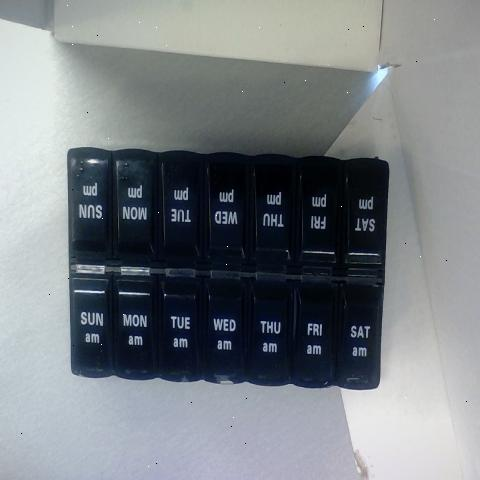FRI-am: (299, 292, 334, 386)
FRI-pm: (303, 165, 341, 273)
MON-am: (114, 273, 158, 377)
MON-pm: (116, 161, 155, 266)
SAT-am: (341, 292, 380, 389)
SAT-pm: (72, 273, 108, 378)
SUN-am: (346, 174, 381, 271)
SUN-pm: (68, 161, 107, 253)
THU-am: (251, 285, 291, 380)
THU-pm: (258, 162, 298, 270)
TUE-am: (159, 277, 200, 380)
TUE-pm: (161, 162, 204, 272)
WED-am: (207, 280, 248, 384)
WED-pm: (213, 161, 254, 273)
